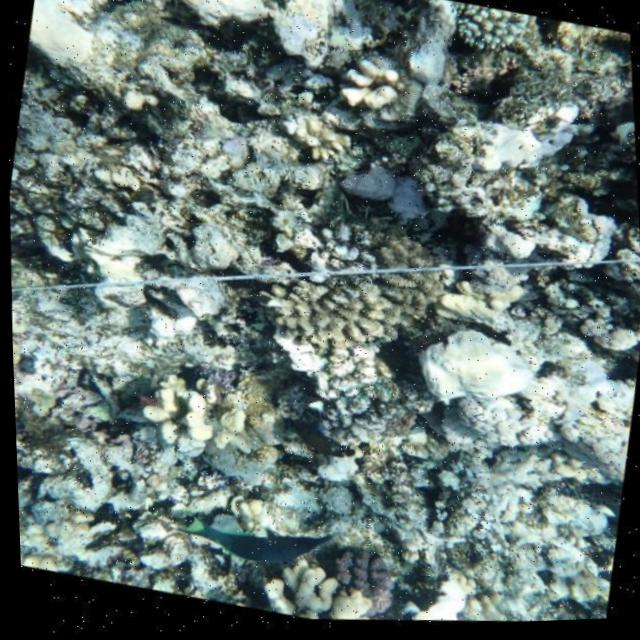Bleached Coral: (43, 235, 241, 407), (431, 296, 596, 487), (465, 64, 600, 227), (176, 0, 373, 79), (450, 210, 567, 291), (32, 0, 187, 61), (267, 336, 371, 404)
